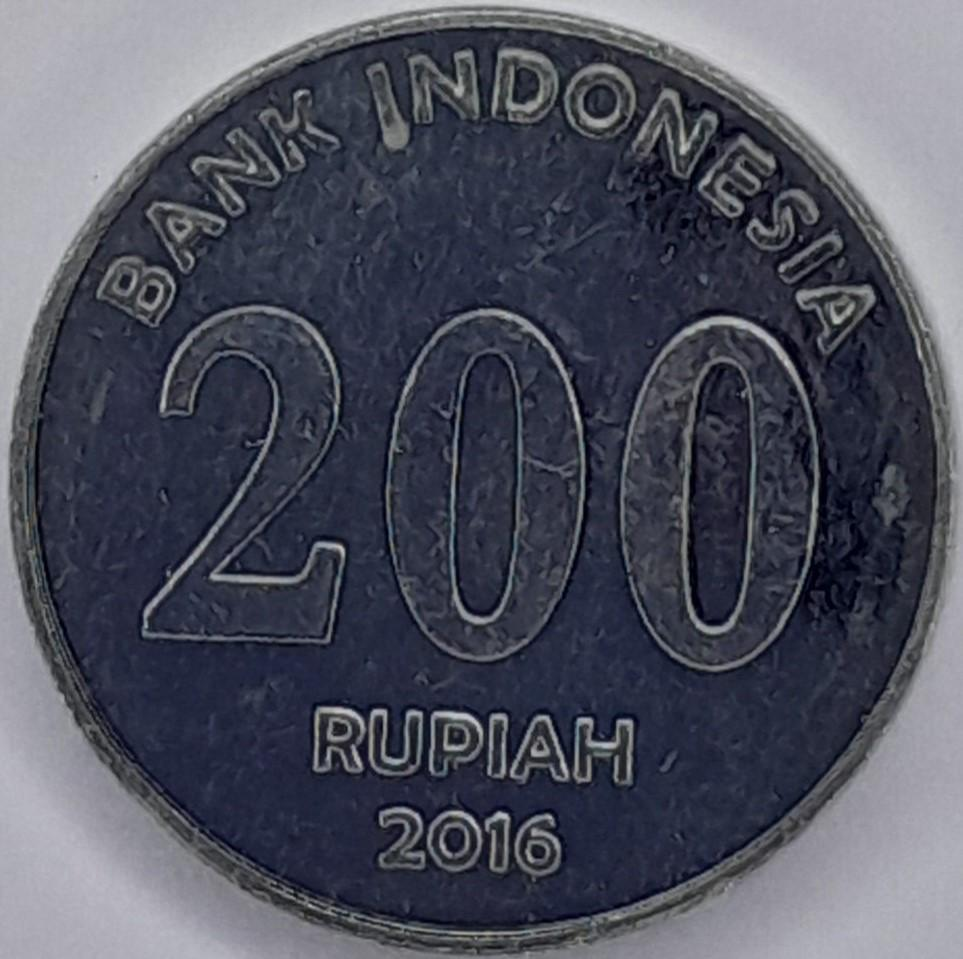coin_200_e2016: (0, 17, 963, 959)
